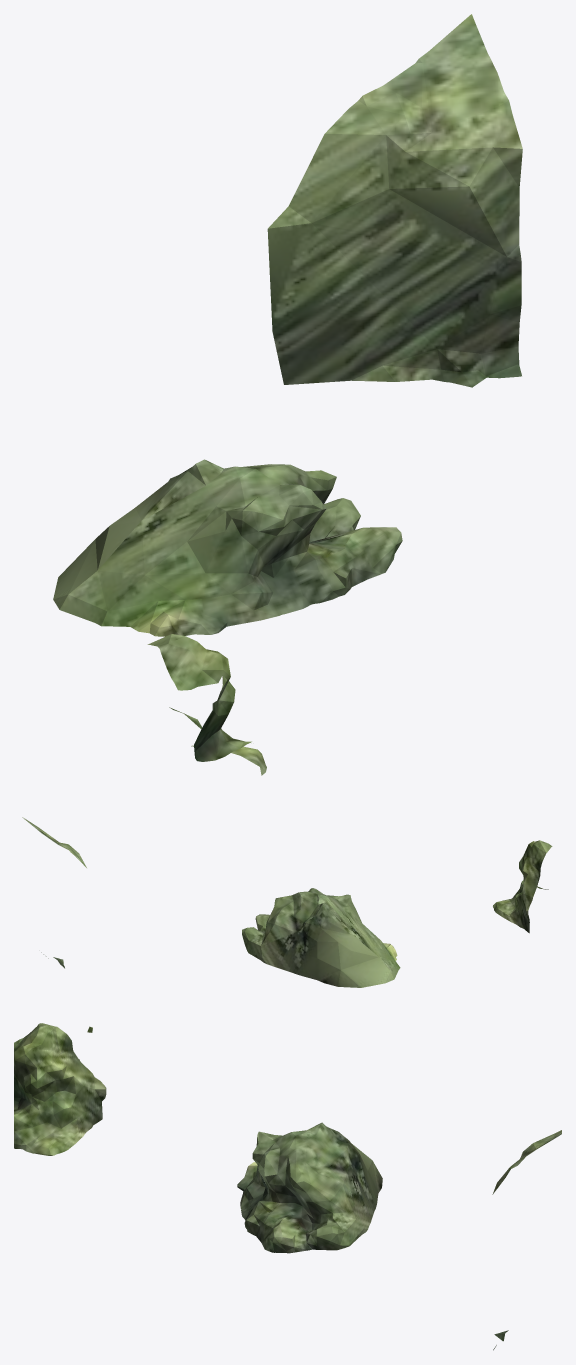
3 views of the same model, one above another, from view 1: azimuth 30°, elevation 25°; view 2: azimuth 150°, elevation 25°; view 3: azimuth 270°, elevation 25° (orthographic). The views are drawn at different scales.
Size of the model in its own units: 26.11 by 11.68 by 26.11.
Materials: 1 (1 with a texture image).
